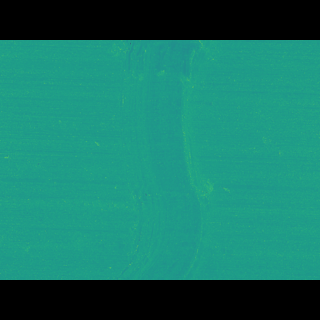Loch: (101, 68, 227, 250)
